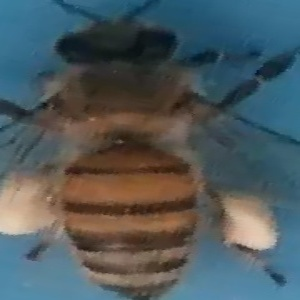bee: (3, 8, 282, 299)
